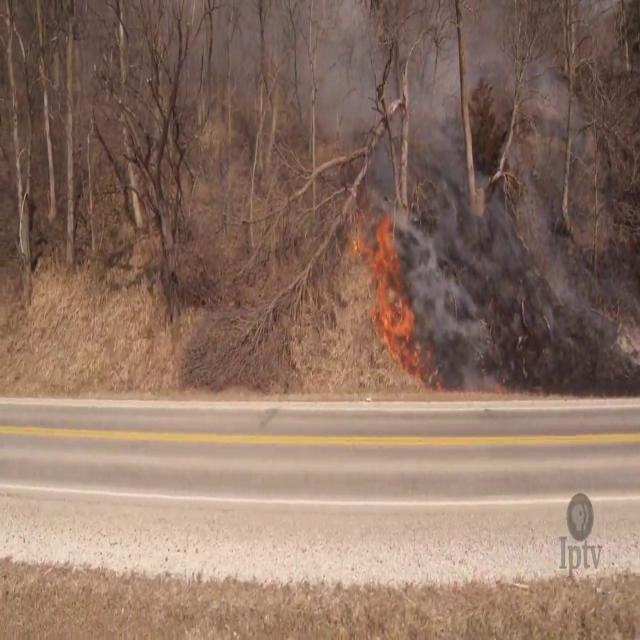Fire: (350, 212, 442, 394)
Smoke: (284, 1, 614, 390)
